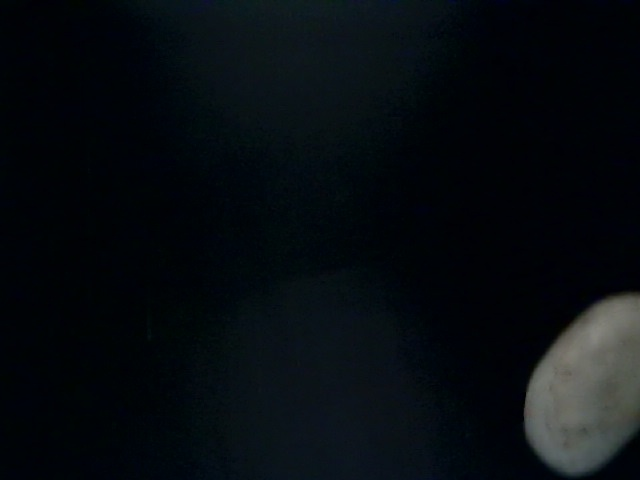QTLJ: (404, 45, 585, 313)
